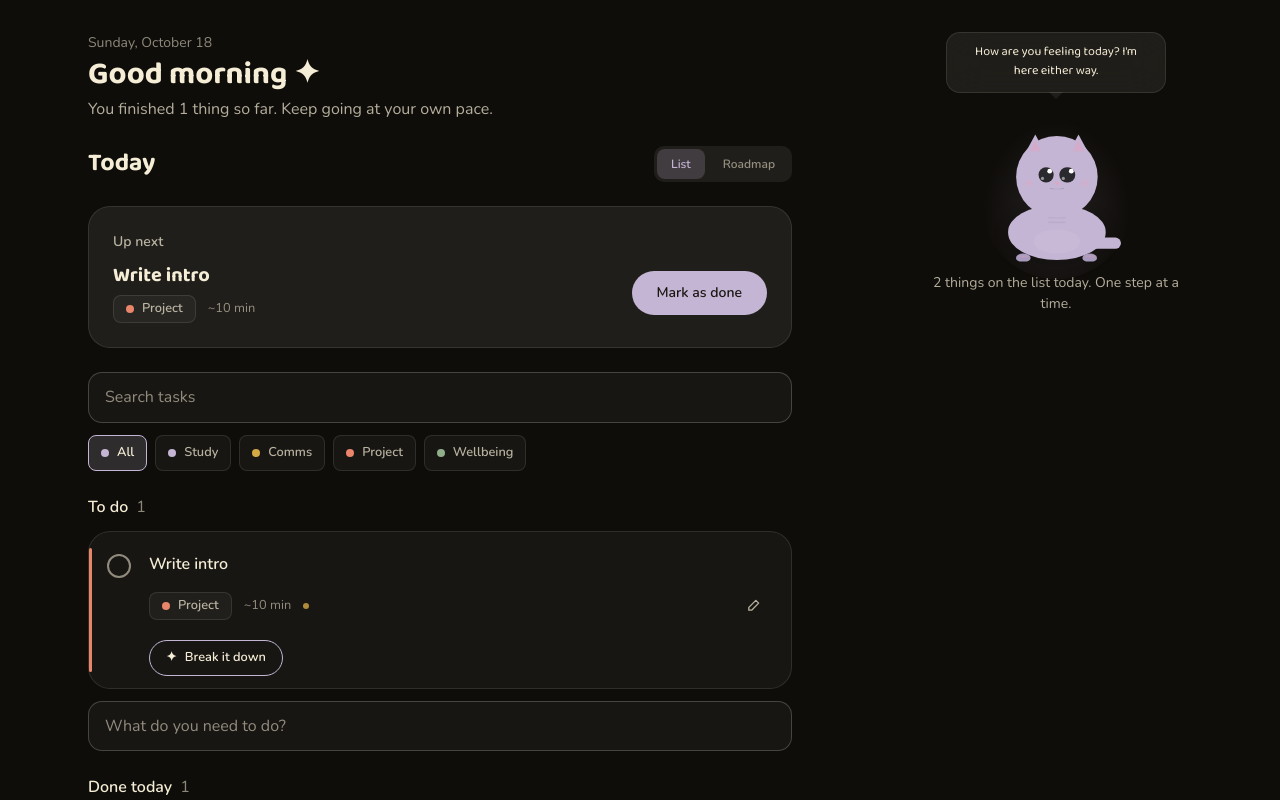
Test: TodayView › switches to the roadmap and back
Click the button "Roadmap". click: click(749, 164)
box: [709, 149, 789, 179]
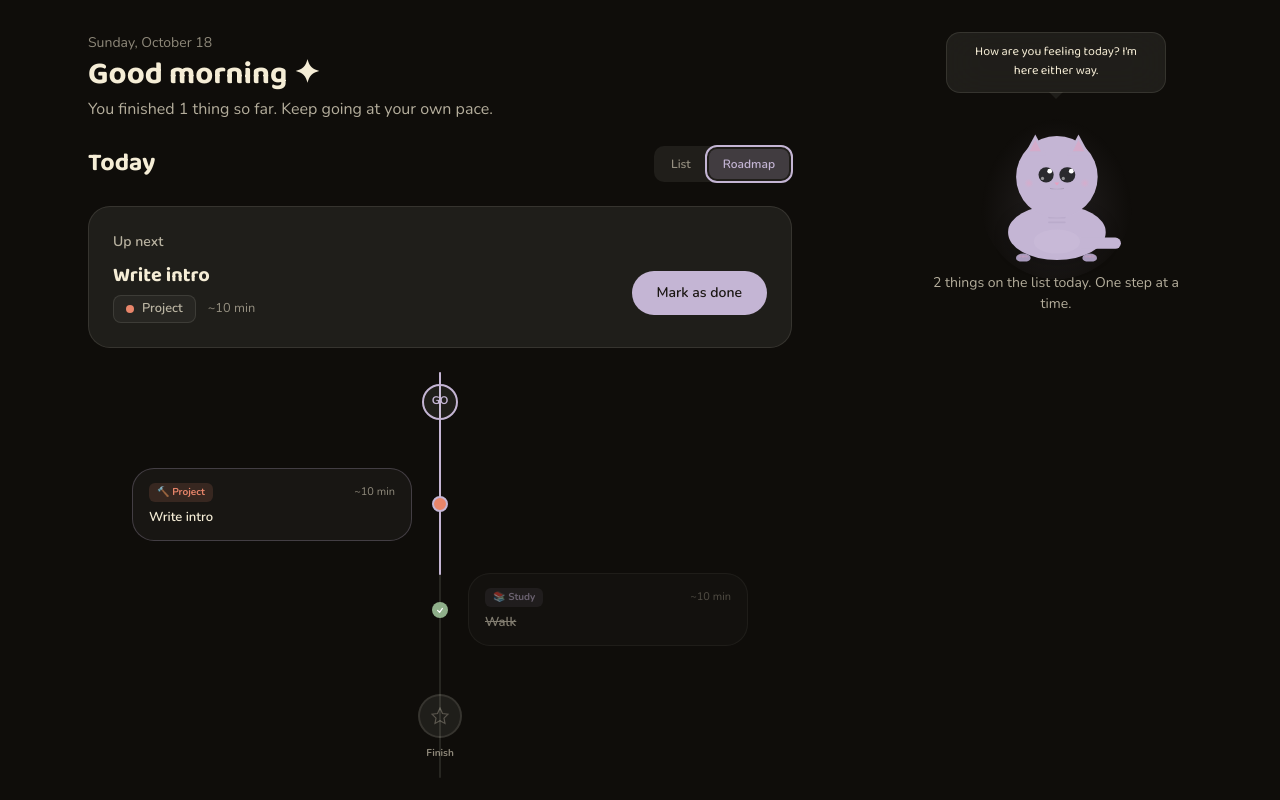
Result: the button with aria-label "Complete task: Write intro" is shown at [132, 468, 412, 541]
Result: the heading "Done today" is gone
Click the button "List". click: click(681, 164)
box: [657, 149, 705, 179]
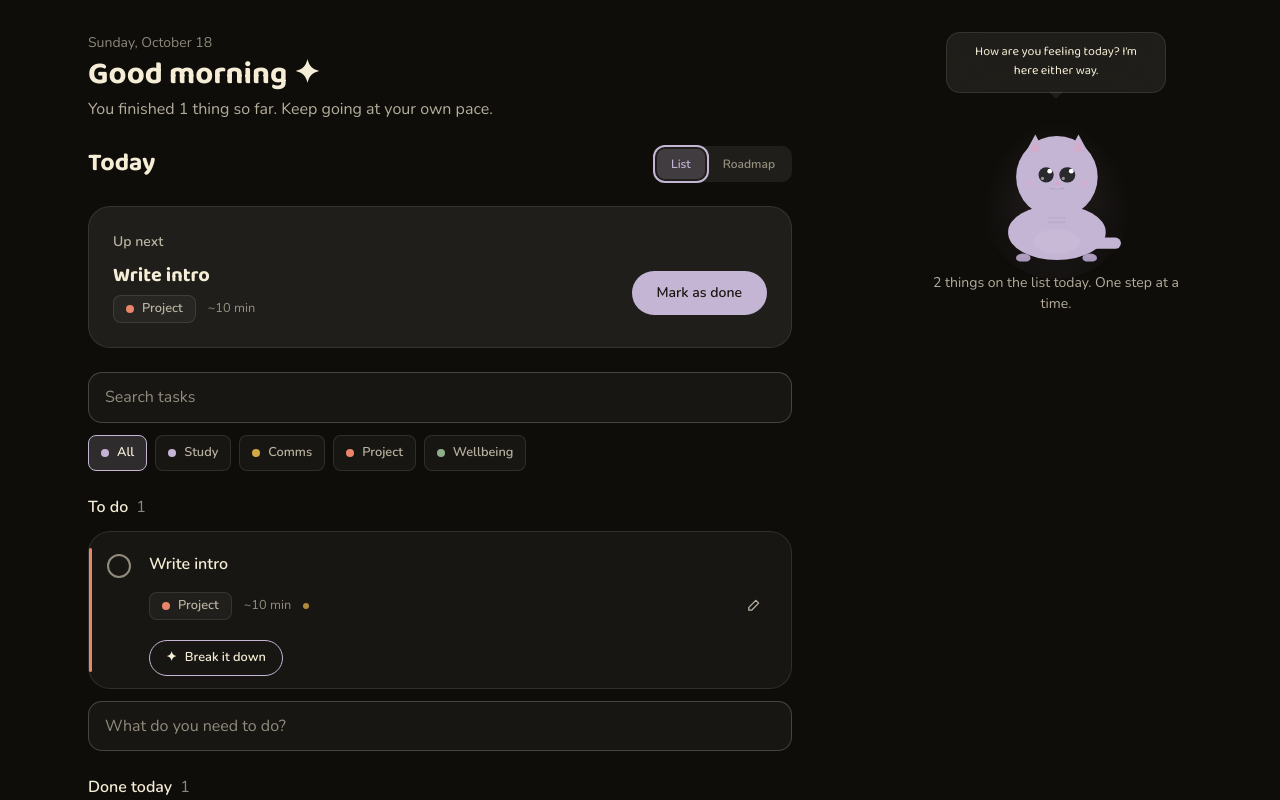
Result: the heading "Done today 1" is shown at [88, 776, 190, 798]
